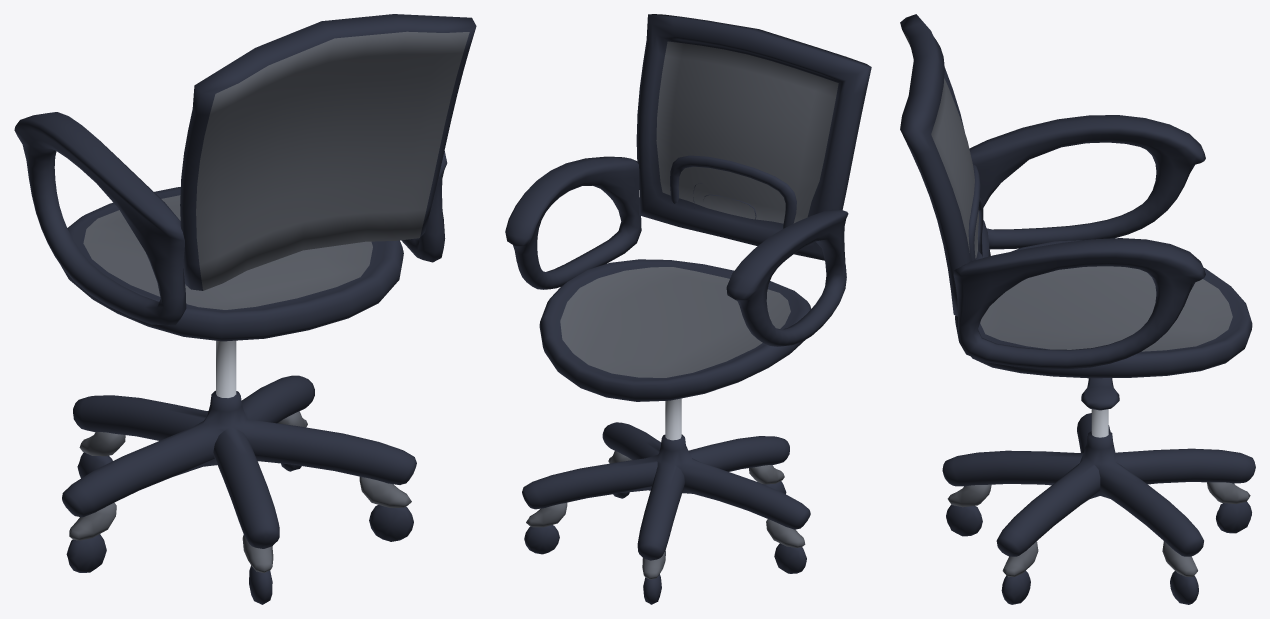
The model's file is chair.glb.
3 renders of one model, left to right at view 1: azimuth 30°, elevation 25°; view 2: azimuth 150°, elevation 25°; view 3: azimuth 270°, elevation 25°, orthographic. The views are drawn at different scales.
Parts seen in each view (by area): view 1: chair; view 2: chair; view 3: chair.
Part boxes in pixels (x1=…): chair: x1=14, y1=14, x2=476, y2=604; chair: x1=505, y1=14, x2=871, y2=604; chair: x1=900, y1=14, x2=1255, y2=604.
Size of what is drawn, in the model's own units: 3.15 by 5.32 by 3.42.
Materials: 1 (1 with a texture image).
